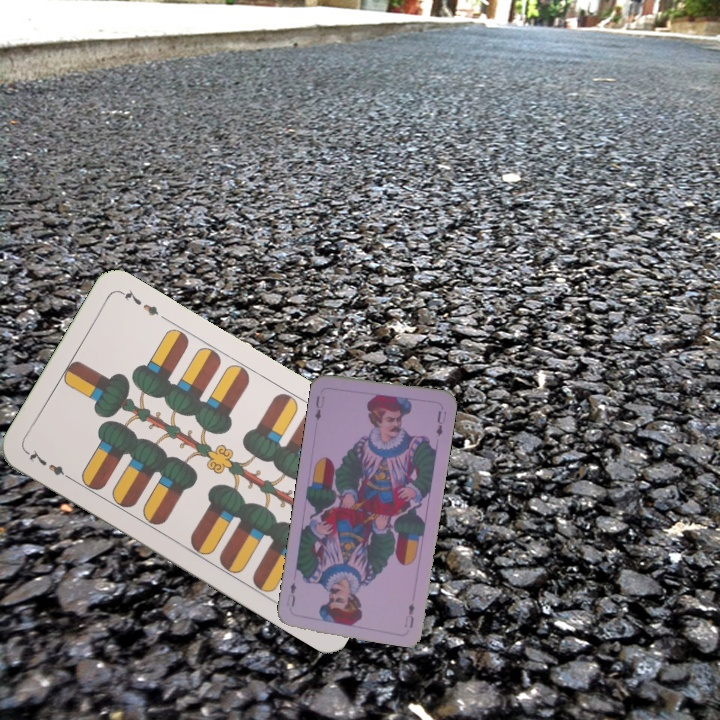E7: (22, 445, 76, 484)
EU: (400, 599, 417, 630), (311, 392, 327, 423)
